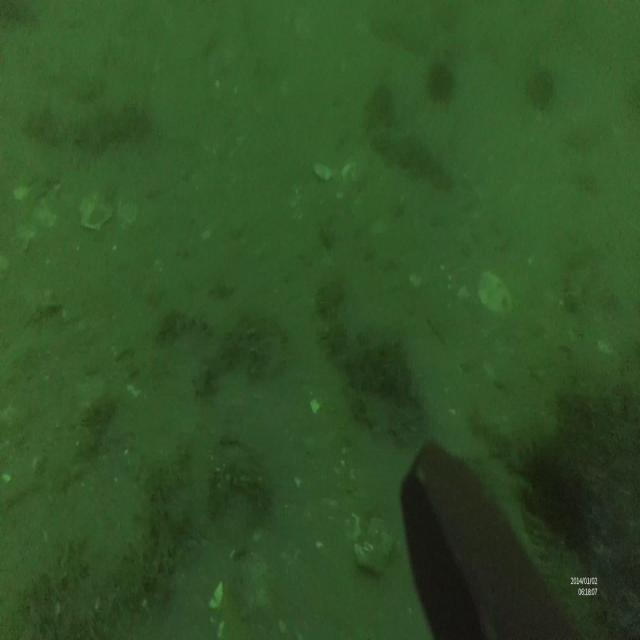echinus: (422, 62, 456, 105), (528, 66, 551, 110)
